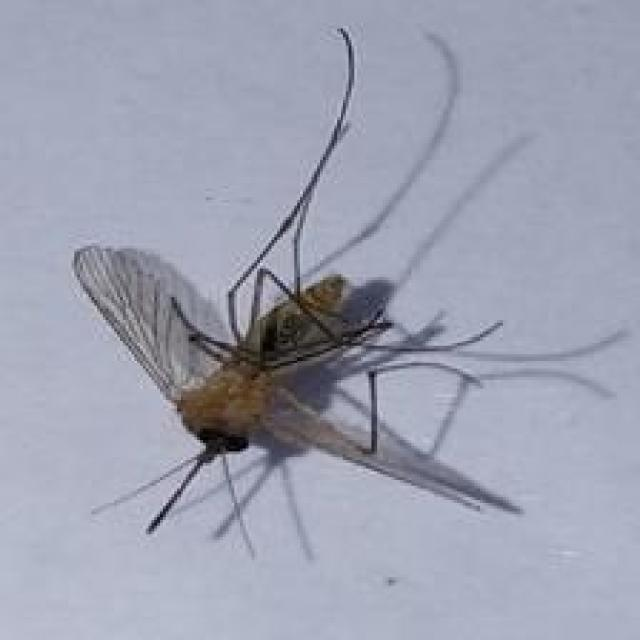Culex: (69, 23, 628, 563)
